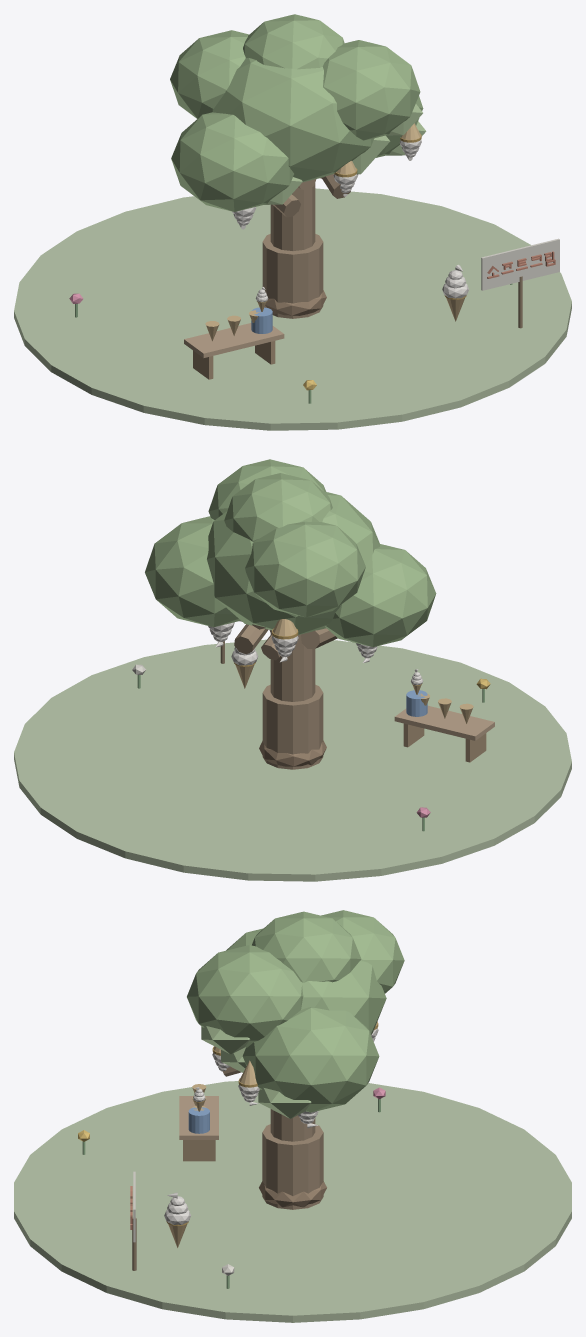
Rendered from softcream.glb.
3 views of the same model, one above another, from view 1: azimuth 30°, elevation 25°; view 2: azimuth 150°, elevation 25°; view 3: azimuth 270°, elevation 25° (orthographic).
Parts seen in each view (by area): view 1: part_09, part_04, part_05, part_15, part_08, part_16, part_07, part_12, part_01, part_06, part_10; view 2: part_09, part_04, part_05, part_08, part_16, part_12, part_01, part_06; view 3: part_09, part_04, part_05, part_07, part_16, part_08, part_01, part_12, part_06, part_00.
Boxes of the visible parts, x1,y1,x2,y2 form: part_09: (14,188,571,430); part_04: (170,14,423,211); part_05: (262,174,350,318); part_15: (481,238,559,290); part_08: (184,323,284,357); part_16: (232,140,468,302); part_07: (264,104,426,204); part_12: (205,123,464,341); part_01: (264,290,326,315); part_06: (193,341,275,379); part_10: (487,251,555,278); part_09: (14,639,571,881); part_04: (145,459,436,647); part_05: (234,624,337,769); part_08: (394,705,494,740); part_16: (208,622,423,685); part_12: (235,619,473,723); part_01: (259,740,326,766); part_06: (403,723,486,762); part_09: (14,1081,571,1322); part_04: (187,910,404,1112); part_05: (222,1066,323,1209); part_07: (201,1026,311,1118); part_16: (164,1028,378,1224); part_08: (179,1096,218,1139); part_01: (259,1181,326,1207); part_12: (168,1022,377,1247); part_06: (183,1140,215,1161); part_00: (188,1107,209,1133).
Bounding box in the file's own units: 15.6 × 8.85 × 15.49.
